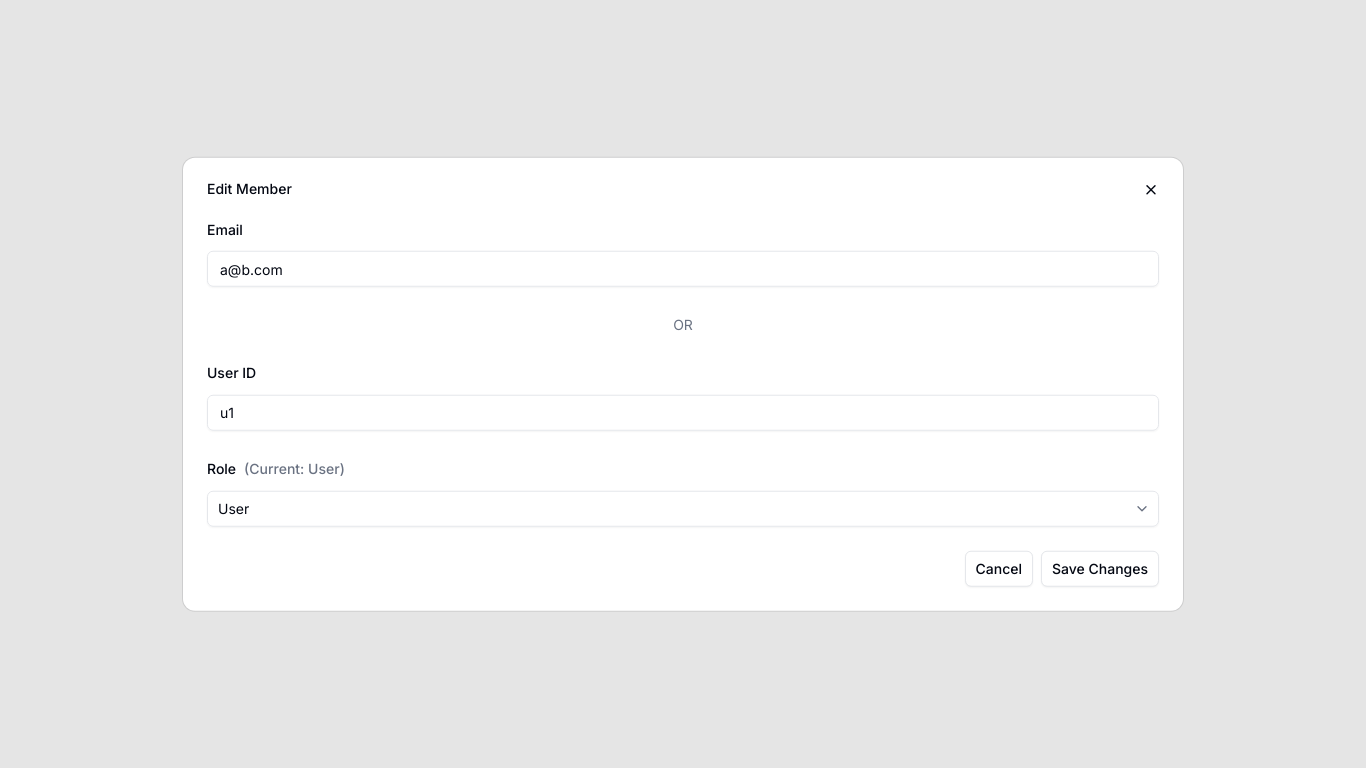
it: EditMembership submit payload › blocks submission when the email is not an address
Replace the text in the field labelled "Email" with "not-an-email" at (683, 269), box [207,251,1159,287]
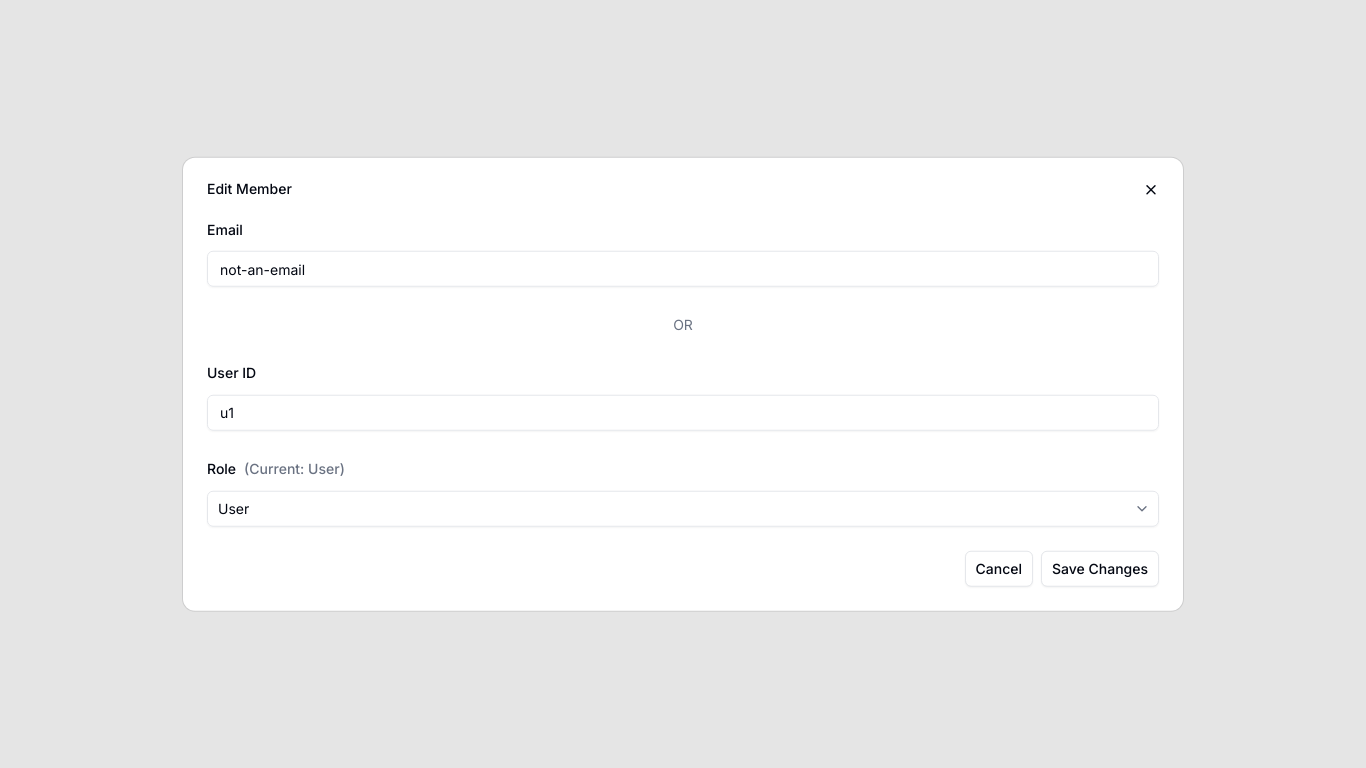
Click the button "Save Changes".
click(1100, 568)  # box [1041,550,1159,586]
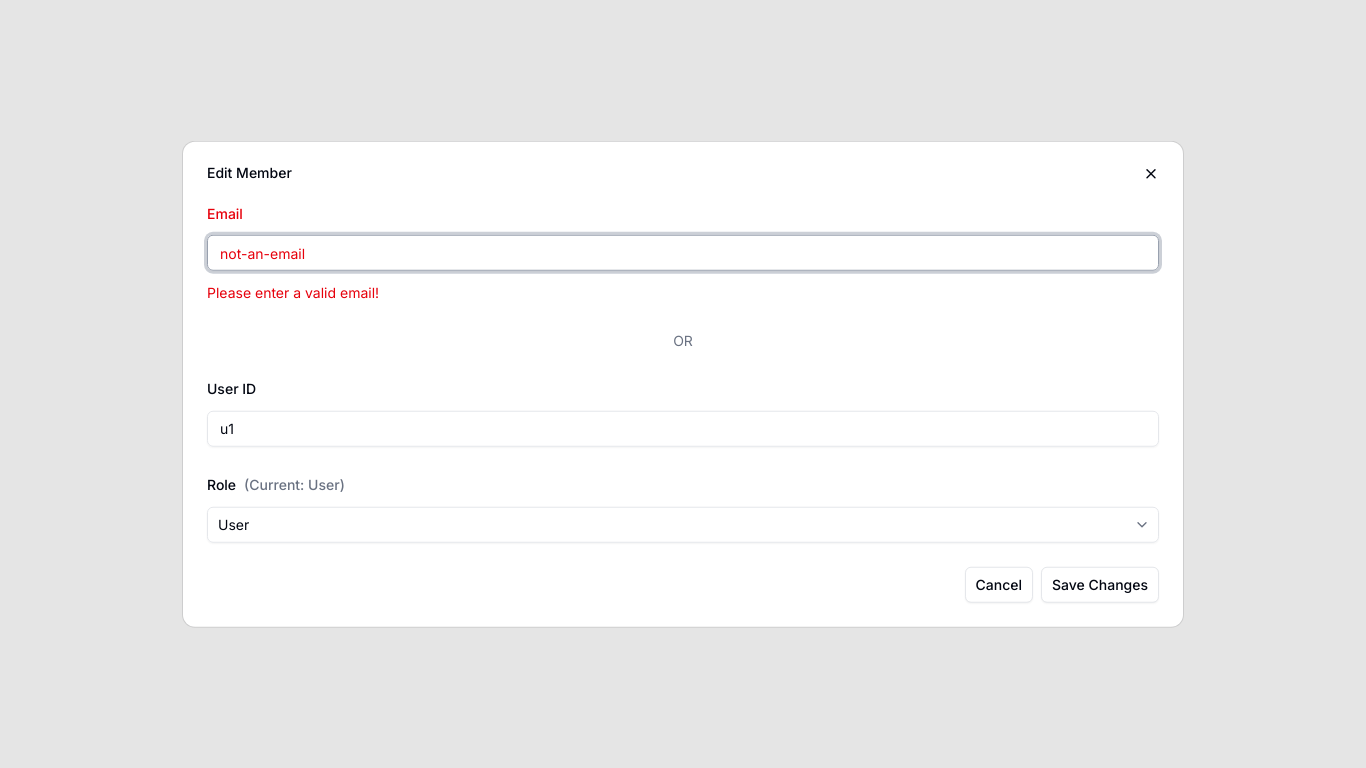
Expected: the text "Please enter a valid email!" is shown, [207,284,379,301]
